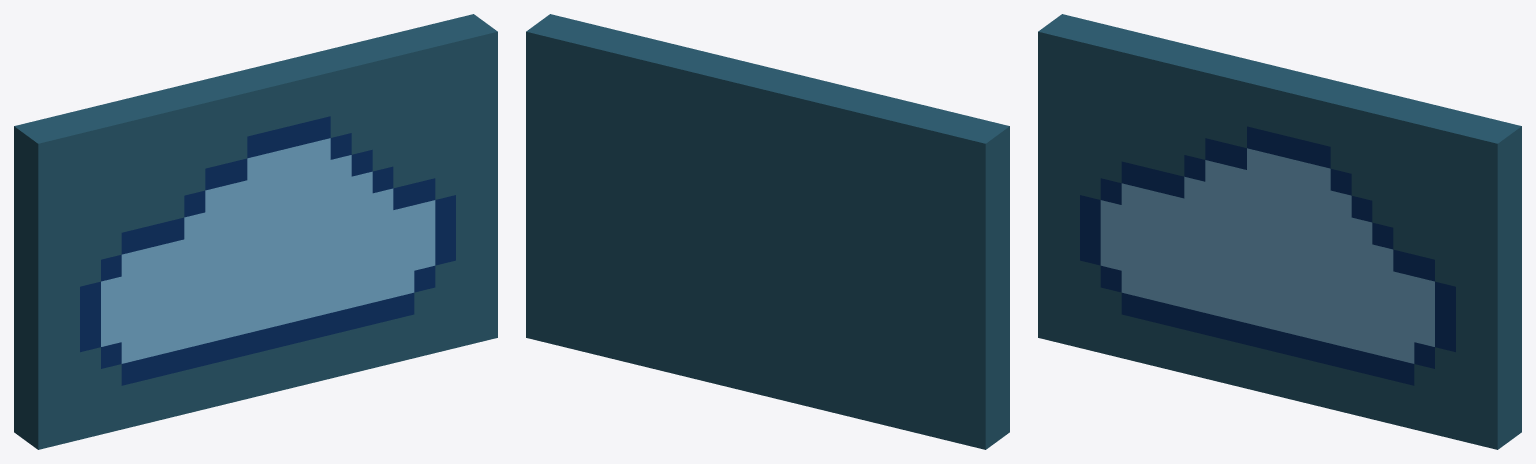
The model's file is cloud_signal.obj.
3 renders of one model, left to right at view 1: azimuth 30°, elevation 25°; view 2: azimuth 150°, elevation 25°; view 3: azimuth 330°, elevation 25°, orthographic.
Size of the model in its own units: 2.2 by 1.4 by 0.2.
1 material, 1 textured.
